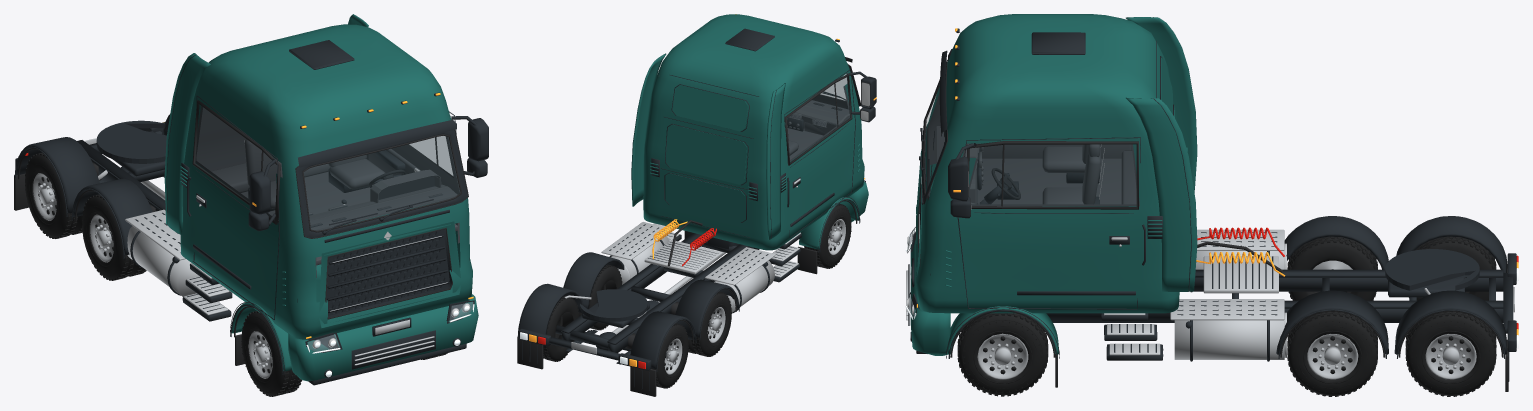
File: tractor.glb
The picture shows the model from 3 angles, left to right: view 1: azimuth 30°, elevation 25°; view 2: azimuth 150°, elevation 25°; view 3: azimuth 270°, elevation 25°; orthographic projection. The views are drawn at different scales.
Parts seen in each view (by area): view 1: GEO-static-paint, GEO-static-trim, GEO-static-glass, GEO-static-interior, GEO-static-steel, GEO-static-rubber, GEO-wheel_RR-rubber, GEO-wheel_MR-rubber, GEO-wheel_FR-rubber, GEO-dashboard-interior, GEO-dashboard-cockpit_polymer, GEO-wheel_FR-steel (+4 smaller); view 2: GEO-static-paint, GEO-static-trim, GEO-static-steel, GEO-static-rubber, GEO-static-glass, GEO-wheel_MR-rubber, GEO-wheel_FR-rubber, GEO-wheel_RR-rubber, GEO-wheel_RL-rubber, GEO-static-interior, GEO-dashboard-interior, GEO-wheel_ML-rubber (+6 smaller); view 3: GEO-static-paint, GEO-static-trim, GEO-static-steel, GEO-static-glass, GEO-static-interior, GEO-wheel_RL-rubber, GEO-wheel_ML-rubber, GEO-wheel_FL-rubber, GEO-static-rubber, GEO-wheel_MR-rubber, GEO-wheel_ML-steel, GEO-wheel_RL-steel (+4 smaller).
Part boxes in pixels (x1,y1,x2,y2): GEO-static-paint: [164, 14, 478, 381]; GEO-static-trim: [14, 15, 488, 385]; GEO-static-glass: [195, 104, 459, 230]; GEO-static-interior: [195, 106, 460, 277]; GEO-static-steel: [85, 138, 447, 365]; GEO-static-rubber: [14, 100, 468, 373]; GEO-wheel_RR-rubber: [25, 152, 82, 238]; GEO-wheel_MR-rubber: [82, 194, 146, 280]; GEO-wheel_FR-rubber: [241, 311, 302, 396]; GEO-dashboard-interior: [309, 184, 457, 229]; GEO-dashboard-cockpit_polymer: [309, 169, 447, 220]; GEO-wheel_FR-steel: [248, 331, 272, 378]; GEO-static-paint: [631, 14, 868, 250]; GEO-static-trim: [517, 28, 876, 390]; GEO-static-steel: [564, 178, 800, 354]; GEO-static-rubber: [517, 63, 870, 396]; GEO-static-glass: [787, 74, 850, 161]; GEO-wheel_MR-rubber: [688, 291, 731, 356]; GEO-wheel_FR-rubber: [804, 204, 851, 268]; GEO-wheel_RR-rubber: [651, 323, 688, 388]; GEO-wheel_RL-rubber: [543, 296, 579, 361]; GEO-static-interior: [658, 73, 849, 161]; GEO-dashboard-interior: [787, 100, 849, 135]; GEO-wheel_ML-rubber: [579, 264, 622, 330]; GEO-static-paint: [910, 14, 1197, 355]; GEO-static-trim: [907, 17, 1516, 381]; GEO-static-steel: [906, 144, 1514, 359]; GEO-static-glass: [924, 86, 1136, 206]; GEO-static-interior: [927, 93, 1139, 206]; GEO-wheel_RL-rubber: [1405, 311, 1496, 396]; GEO-wheel_ML-rubber: [1287, 311, 1377, 396]; GEO-wheel_FL-rubber: [957, 313, 1048, 396]; GEO-static-rubber: [918, 59, 1508, 391]; GEO-wheel_MR-rubber: [1287, 236, 1377, 300]; GEO-wheel_ML-steel: [1307, 334, 1358, 379]; GEO-wheel_RL-steel: [1425, 334, 1476, 379].
Bounding box in the file's own units: 3.3 × 4.06 × 7.25.
